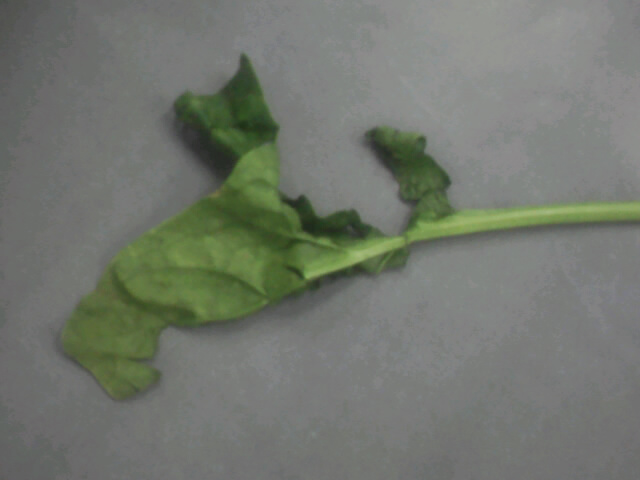yellow: (30, 53, 497, 403)
